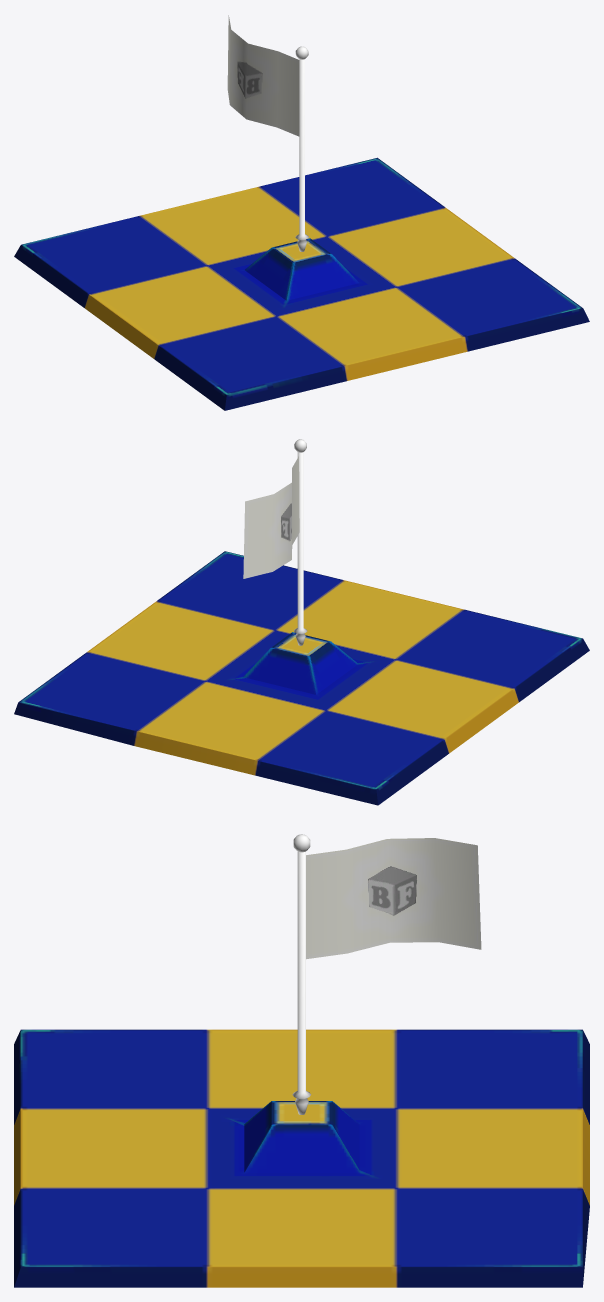
Rendered from battle_flag_01_b.obj.
3 renders of one model, top to bottom at view 1: azimuth 30°, elevation 25°; view 2: azimuth 150°, elevation 25°; view 3: azimuth 270°, elevation 25°, orthographic. The views are drawn at different scales.
Visible parts, largest first — view 1: battle_flagset, battle_flag, battle_flagbody; view 2: battle_flagset, battle_flag, battle_flagbody; view 3: battle_flagset, battle_flag, battle_flagbody.
Part boxes in pixels (left/top/right/bottom): battle_flagset: left=14, top=157, right=589, bottom=410; battle_flag: left=227, top=15, right=299, bottom=136; battle_flagbody: left=295, top=46, right=308, bottom=251; battle_flagset: left=14, top=551, right=589, bottom=805; battle_flag: left=243, top=456, right=299, bottom=578; battle_flagbody: left=294, top=439, right=307, bottom=645; battle_flagset: left=14, top=1029, right=589, bottom=1287; battle_flag: left=306, top=838, right=481, bottom=959; battle_flagbody: left=292, top=834, right=311, bottom=1114.
Bounding box in the file's own units: 3 × 1.9 × 3.
Materials: 2 (2 with a texture image).
